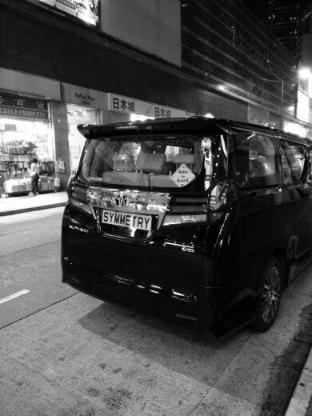license plate: (98, 200, 156, 240)
